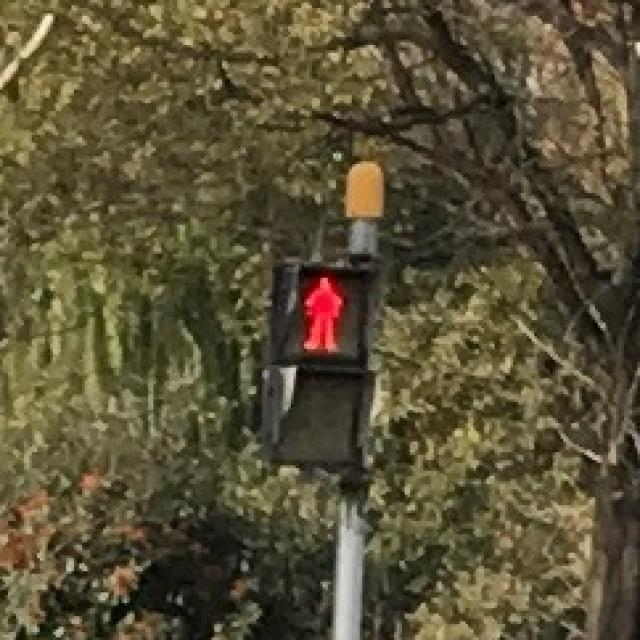red-crossing: (280, 259, 357, 360)
